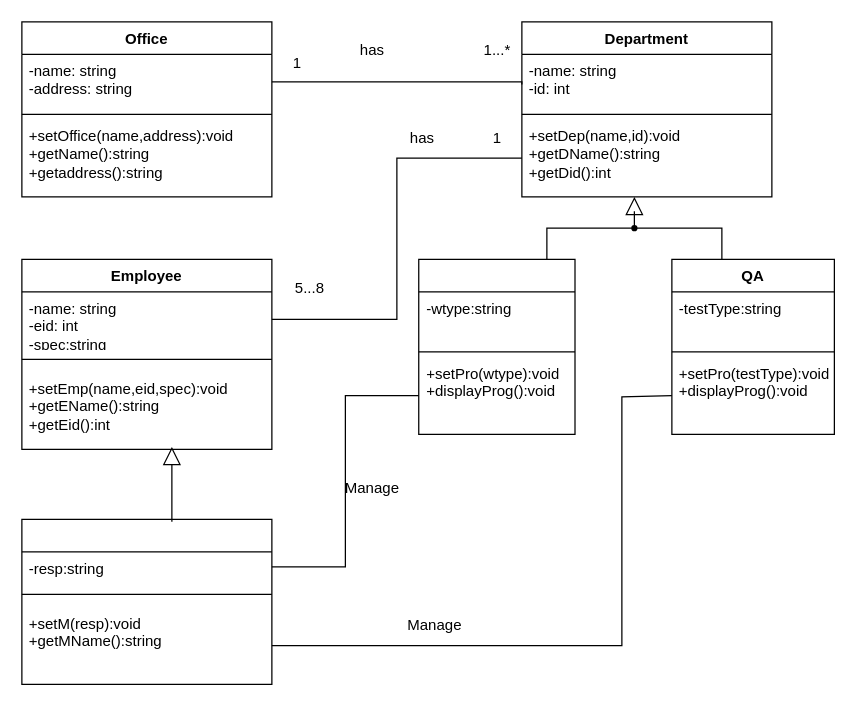
Some shapes in this 856 by 710 pixel diagram are drawn without their labels. Here are the shapes that lost their labels. From the top down, the box of each, then its label:
(418, 258, 575, 434): Programming
(21, 518, 272, 684): Manager
